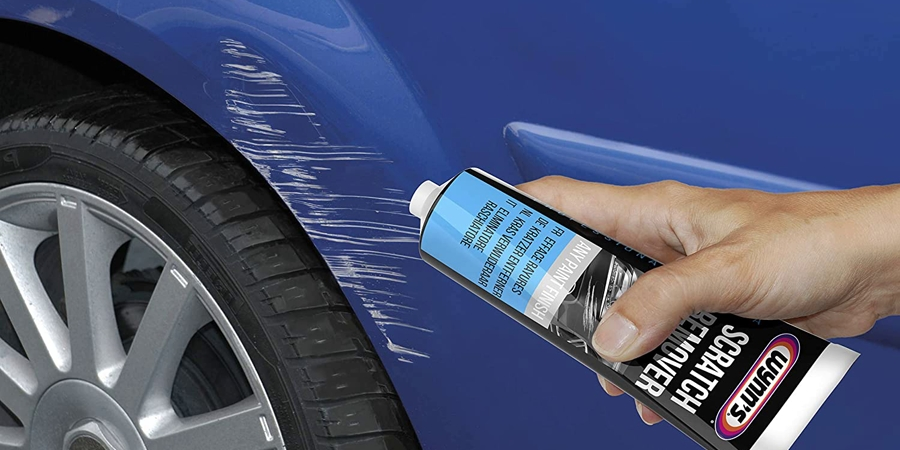scratch: (214, 25, 432, 377)
